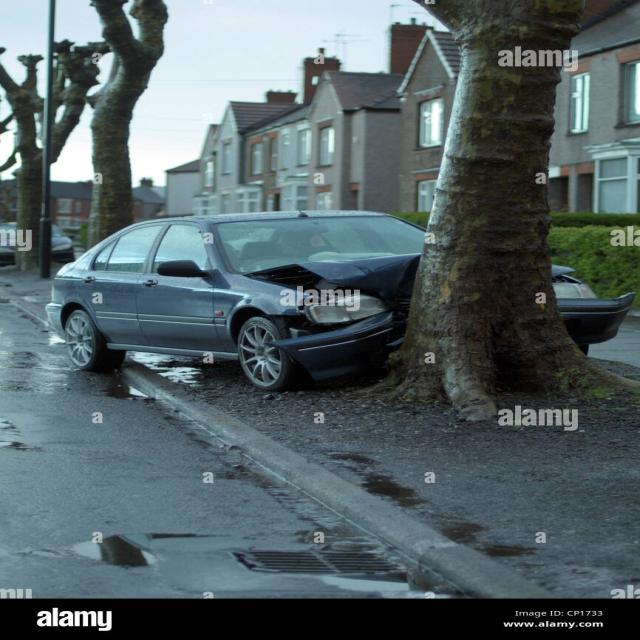Accident: (33, 205, 640, 417)
